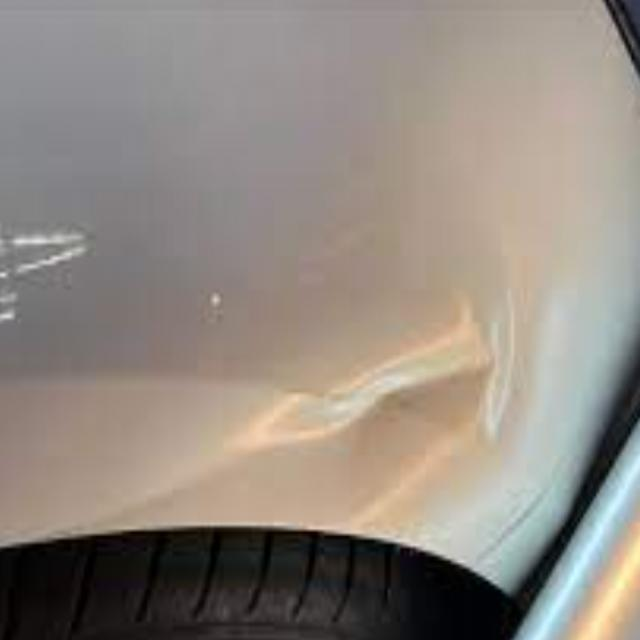dents: (219, 254, 519, 520)
